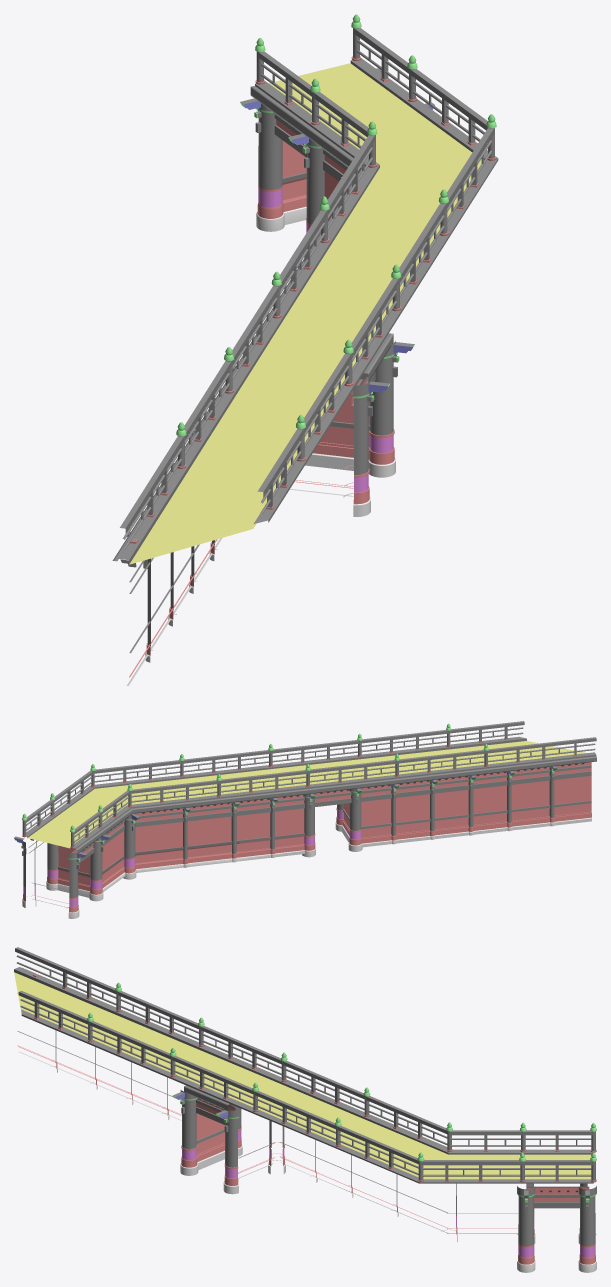
The model's file is SM_ENV_LKNVLD_WallSet_Bend.gltf.
3 renders of one model, top to bottom at view 1: azimuth 30°, elevation 25°; view 2: azimuth 150°, elevation 25°; view 3: azimuth 270°, elevation 25°, orthographic. The views are drawn at different scales.
Parts seen in each view (by area): view 1: SM_ENV_LKNVLD_WallSet_Bend; view 2: SM_ENV_LKNVLD_WallSet_Bend; view 3: SM_ENV_LKNVLD_WallSet_Bend.
Boxes of the visible parts, left/top/right/bottom form: SM_ENV_LKNVLD_WallSet_Bend: left=112, top=14, right=498, bottom=686; SM_ENV_LKNVLD_WallSet_Bend: left=14, top=721, right=596, bottom=918; SM_ENV_LKNVLD_WallSet_Bend: left=14, top=947, right=596, bottom=1272.
Size of the model in its own units: 33.93 by 8.37 by 37.58.
